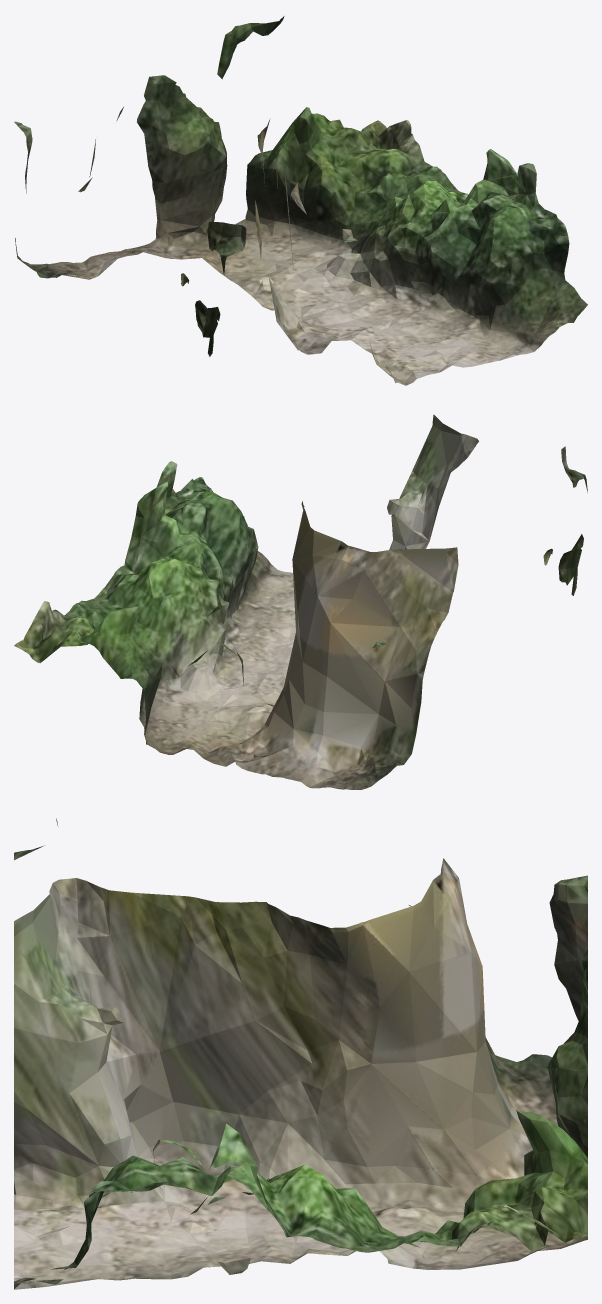
3 renders of one model, top to bottom at view 1: azimuth 30°, elevation 25°; view 2: azimuth 150°, elevation 25°; view 3: azimuth 270°, elevation 25°, orthographic. The views are drawn at different scales.
Bounding box in the file's own units: 11.8 × 6.39 × 11.8.
Materials: 4 (4 with a texture image).
